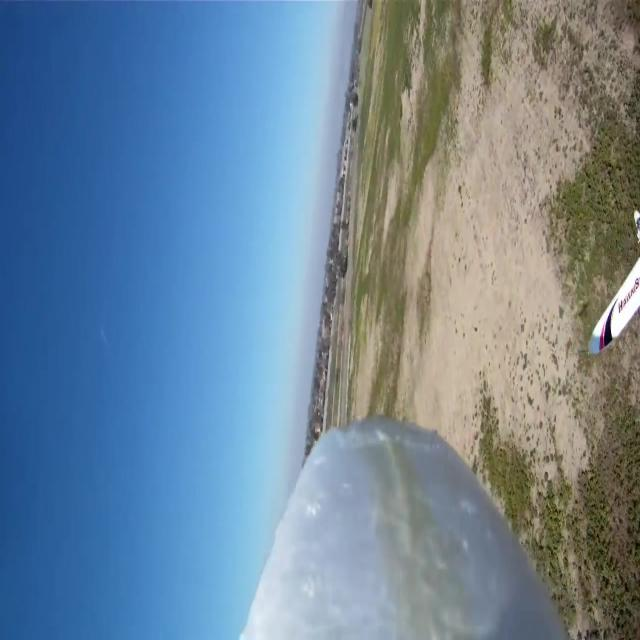iha: (586, 205, 640, 358)
